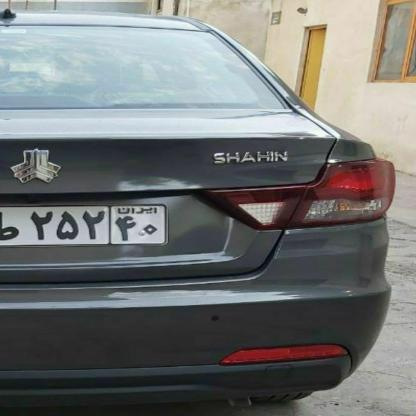Car: (0, 9, 400, 407)
